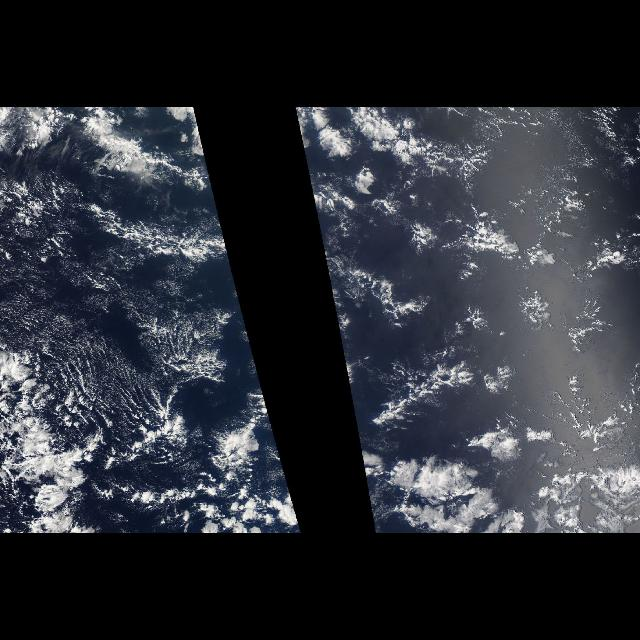Fish: (0, 332, 270, 530)
Flower: (340, 111, 640, 533)
Sugar: (3, 282, 195, 436)
